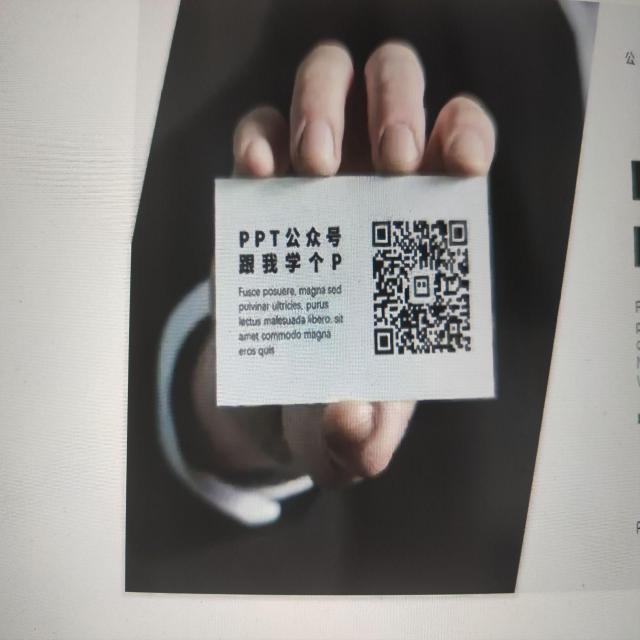qr_code: (372, 221, 470, 355)
